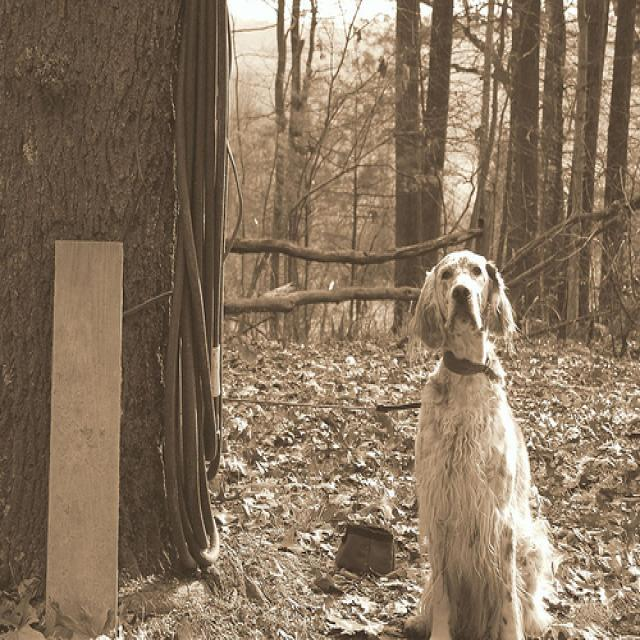dog-english_setter: (404, 245, 553, 637)
